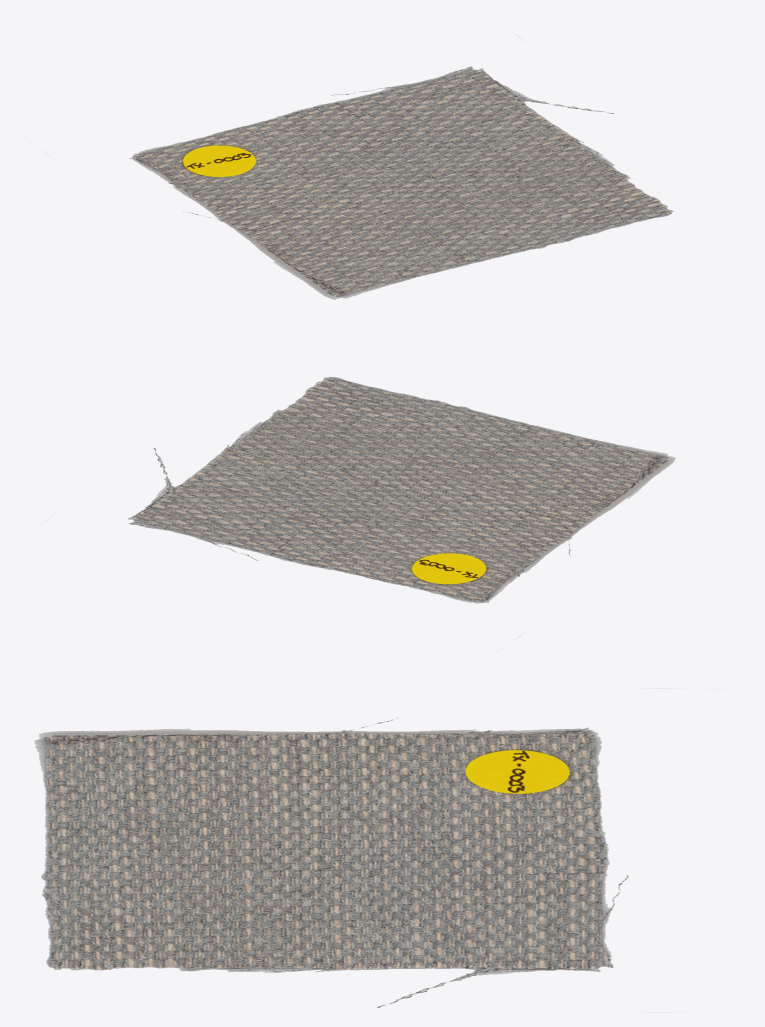
The picture shows the model from 3 angles, top to bottom: view 1: azimuth 30°, elevation 25°; view 2: azimuth 150°, elevation 25°; view 3: azimuth 270°, elevation 25°; orthographic projection. The views are drawn at different scales.
Parts seen in each view (by area): view 1: tx003.png; view 2: tx003.png; view 3: tx003.png.
Boxes of the visible parts, box(x1,y1,x2,y2) form: tx003.png: box(129, 66, 673, 299); tx003.png: box(127, 376, 675, 603); tx003.png: box(34, 718, 628, 1007).
Bounding box in the file's own units: 0.00881 × 0 × 0.00846.
1 material, 1 textured.
